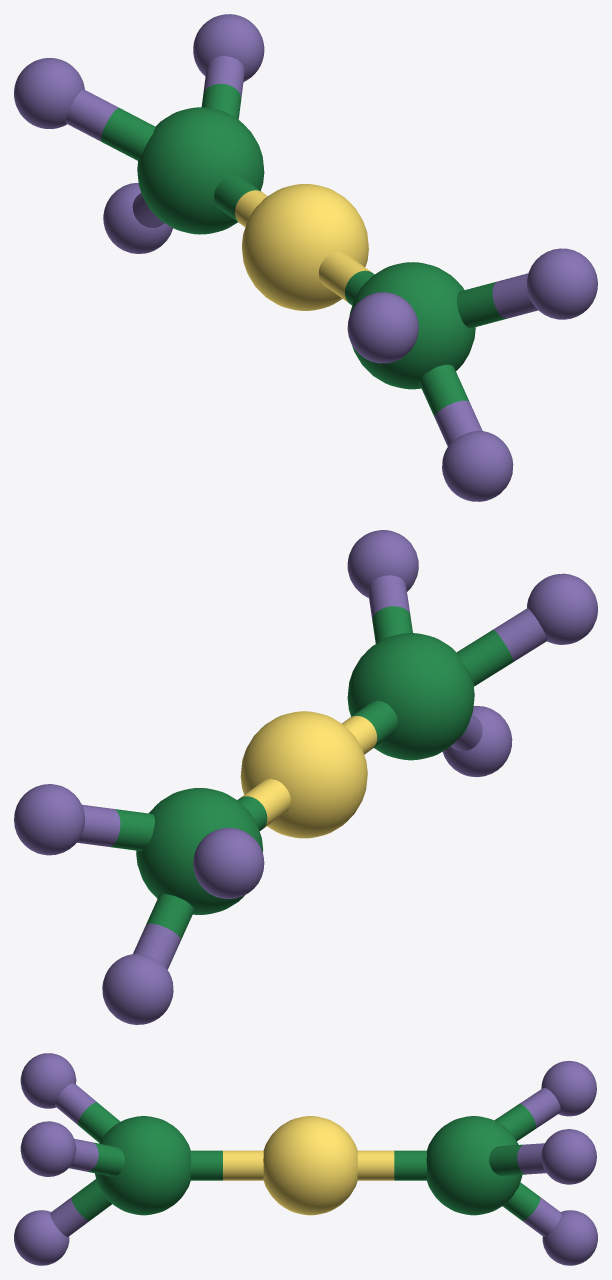
File: eteres.gltf
3 renders of one model, top to bottom at view 1: azimuth 30°, elevation 25°; view 2: azimuth 150°, elevation 25°; view 3: azimuth 270°, elevation 25°, orthographic. The views are drawn at different scales.
Visible parts, largest first — view 1: Sphere.016, Sphere.011, Sphere.012, Sphere.013, Sphere.004, Sphere.017, Sphere.014, Sphere.015, Sphere.018, Cylinder.024, Cylinder.023, Cylinder.030 (+8 smaller); view 2: Sphere.016, Sphere.012, Sphere.011, Sphere.014, Sphere.015, Sphere.018, Sphere.004, Sphere.013, Sphere.017, Cylinder.019, Cylinder.007, Cylinder.025 (+8 smaller); view 3: Sphere.016, Sphere.012, Sphere.011, Sphere.013, Sphere.015, Sphere.017, Sphere.018, Sphere.004, Sphere.014, Cylinder.020, Cylinder.028, Cylinder.027 (+13 smaller).
Boxes of the visible parts, box(x1,y1,x2,y2) form: Sphere.016: box(242, 184, 368, 310); Sphere.011: box(137, 107, 264, 234); Sphere.012: box(349, 262, 475, 389); Sphere.013: box(527, 248, 597, 319); Sphere.004: box(347, 292, 418, 363); Sphere.017: box(442, 430, 513, 501); Sphere.014: box(14, 58, 84, 128); Sphere.015: box(193, 14, 264, 82); Sphere.018: box(103, 183, 172, 253); Cylinder.024: box(101, 108, 155, 160); Cylinder.023: box(66, 89, 118, 141); Cylinder.030: box(419, 364, 469, 416); Sphere.016: box(240, 711, 367, 838); Sphere.012: box(347, 633, 474, 760); Sphere.011: box(136, 788, 263, 914); Sphere.014: box(193, 827, 264, 898); Sphere.015: box(14, 784, 84, 855); Sphere.018: box(102, 954, 173, 1024); Sphere.004: box(527, 573, 597, 644); Sphere.013: box(347, 530, 418, 597); Sphere.017: box(442, 706, 512, 777); Cylinder.019: box(456, 630, 513, 686); Cylinder.007: box(493, 608, 547, 661); Cylinder.025: box(77, 804, 120, 846); Sphere.016: box(263, 1116, 357, 1215); Sphere.012: box(95, 1116, 190, 1215); Sphere.011: box(426, 1116, 522, 1215); Sphere.013: box(20, 1121, 76, 1176); Sphere.015: box(541, 1129, 596, 1184); Sphere.017: box(14, 1210, 69, 1265); Sphere.018: box(542, 1210, 597, 1265); Sphere.004: box(20, 1053, 76, 1108); Sphere.014: box(541, 1061, 596, 1116); Cylinder.020: box(223, 1150, 263, 1180); Cylinder.028: box(357, 1150, 394, 1180); Cylinder.027: box(394, 1150, 426, 1180).
Bounding box in the file's own units: 0.000687 × 0.000604 × 0.00185.
